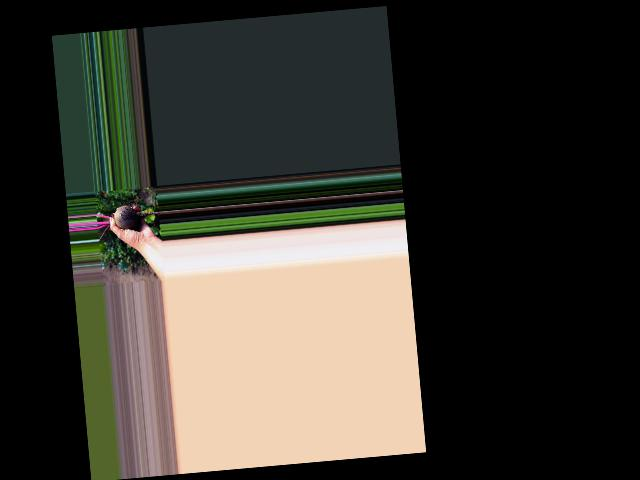beet: (94, 192, 162, 241)
